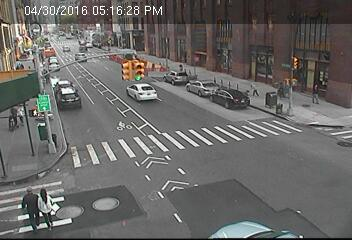neg: (199, 133, 218, 159), (256, 126, 275, 151), (146, 119, 162, 140), (314, 149, 329, 169), (297, 10, 311, 30), (29, 100, 43, 119), (91, 41, 105, 59), (72, 14, 86, 32), (118, 176, 132, 193), (26, 14, 39, 32), (92, 75, 105, 92), (277, 193, 290, 210), (242, 12, 255, 28), (121, 56, 132, 71), (228, 217, 238, 230), (161, 28, 170, 40), (119, 117, 127, 129), (132, 34, 140, 44), (332, 118, 340, 128), (223, 93, 230, 102), (77, 166, 83, 175)
pos: (9, 181, 46, 230), (26, 184, 61, 231), (2, 98, 24, 127), (305, 80, 326, 107), (273, 78, 289, 100), (245, 78, 260, 98), (176, 61, 187, 75), (14, 57, 24, 71)
